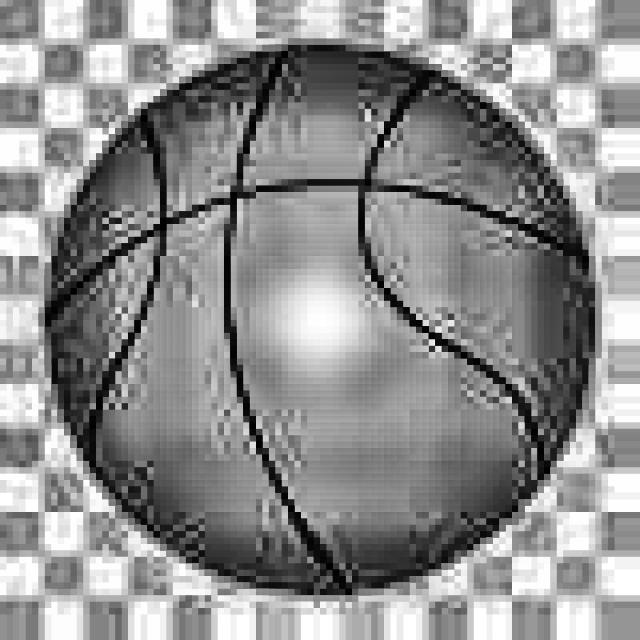Basketball: (45, 45, 602, 595)
